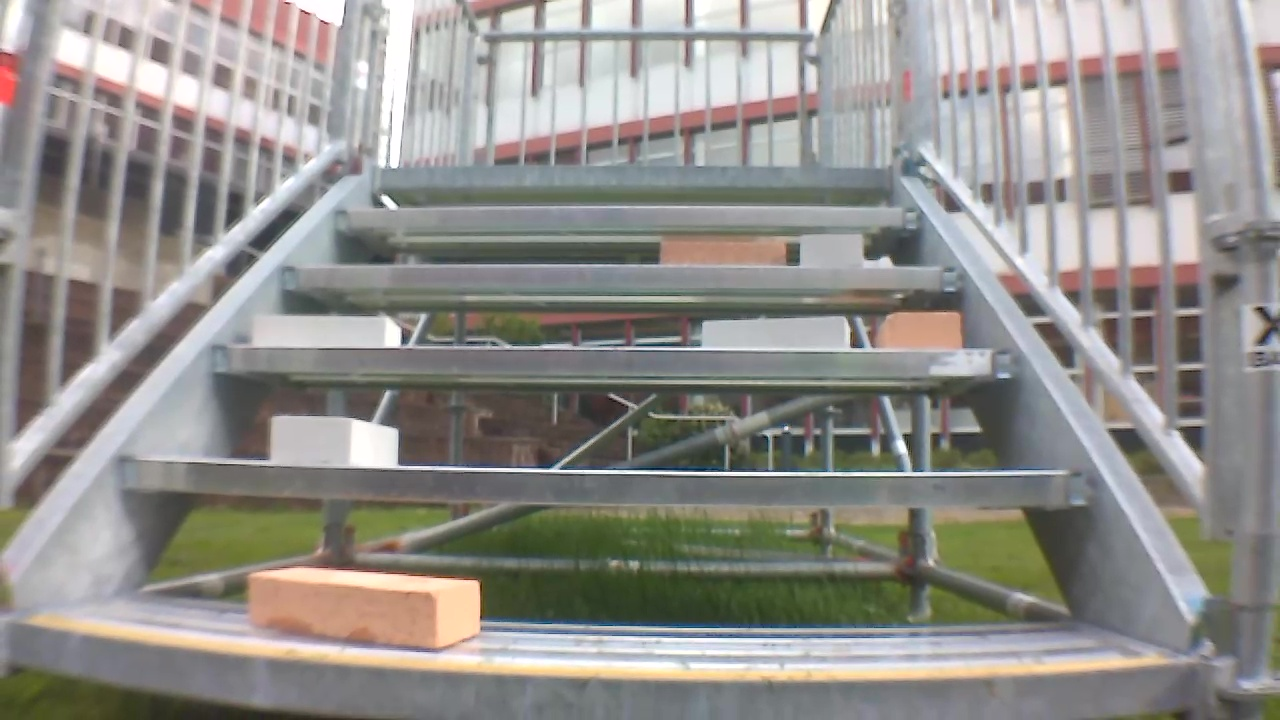brick: (249, 569, 479, 647), (270, 417, 398, 466), (254, 316, 400, 348), (703, 317, 849, 349), (661, 235, 784, 265), (884, 313, 961, 347), (799, 234, 861, 266)
edge: (12, 623, 1184, 718), (123, 457, 1088, 505), (214, 345, 1013, 375), (285, 264, 963, 289), (330, 206, 924, 228), (374, 164, 887, 186)
stairs: (4, 5, 1273, 713)
steps: (3, 159, 1197, 714)
